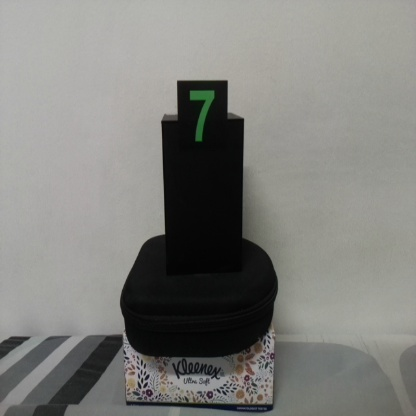id_7: (177, 80, 228, 161)
